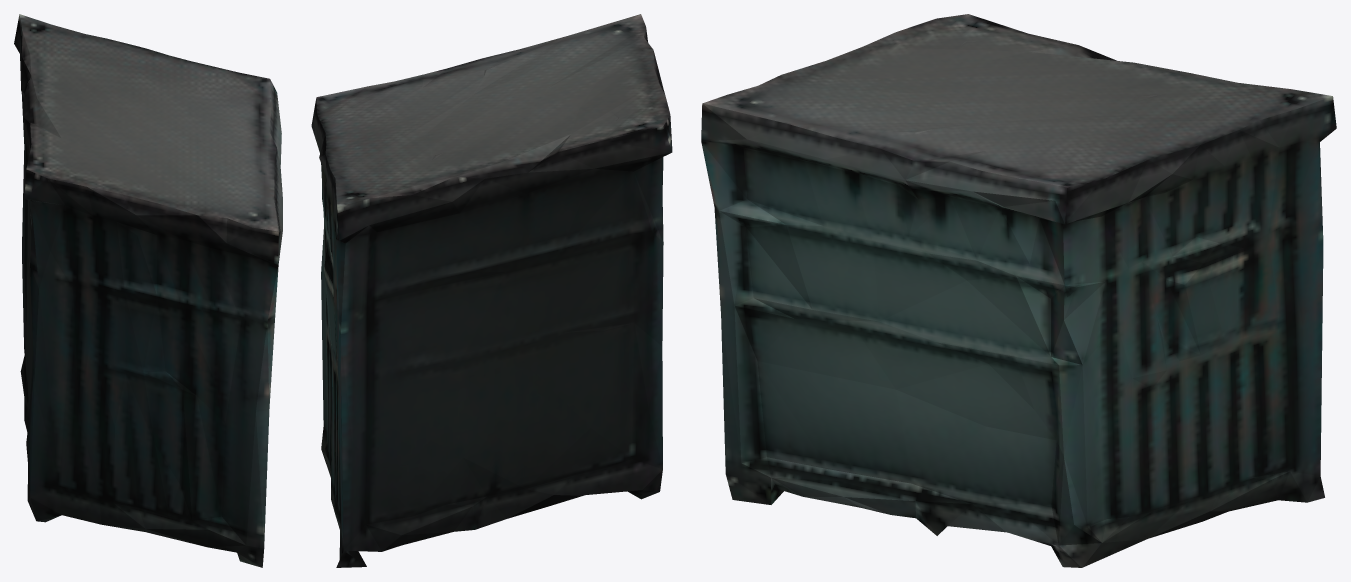
File: dumpster-lod1.obj
3 views of the same model, side by side, from view 1: azimuth 30°, elevation 25°; view 2: azimuth 150°, elevation 25°; view 3: azimuth 270°, elevation 25° (orthographic). The views are drawn at different scales.
Size of the model in its own units: 1.11 by 1.3 by 1.79.
1 material, 1 textured.
